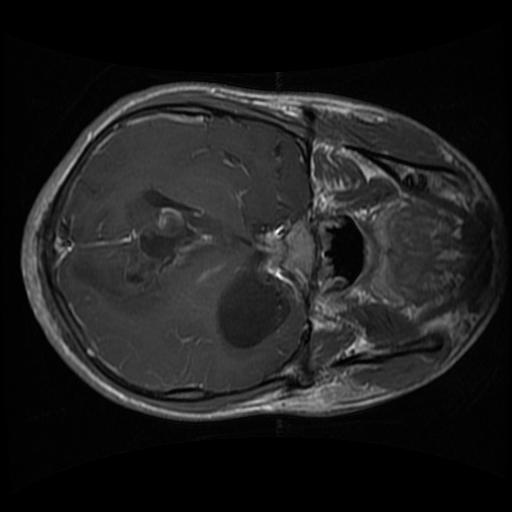glioma: (115, 188, 221, 290)
